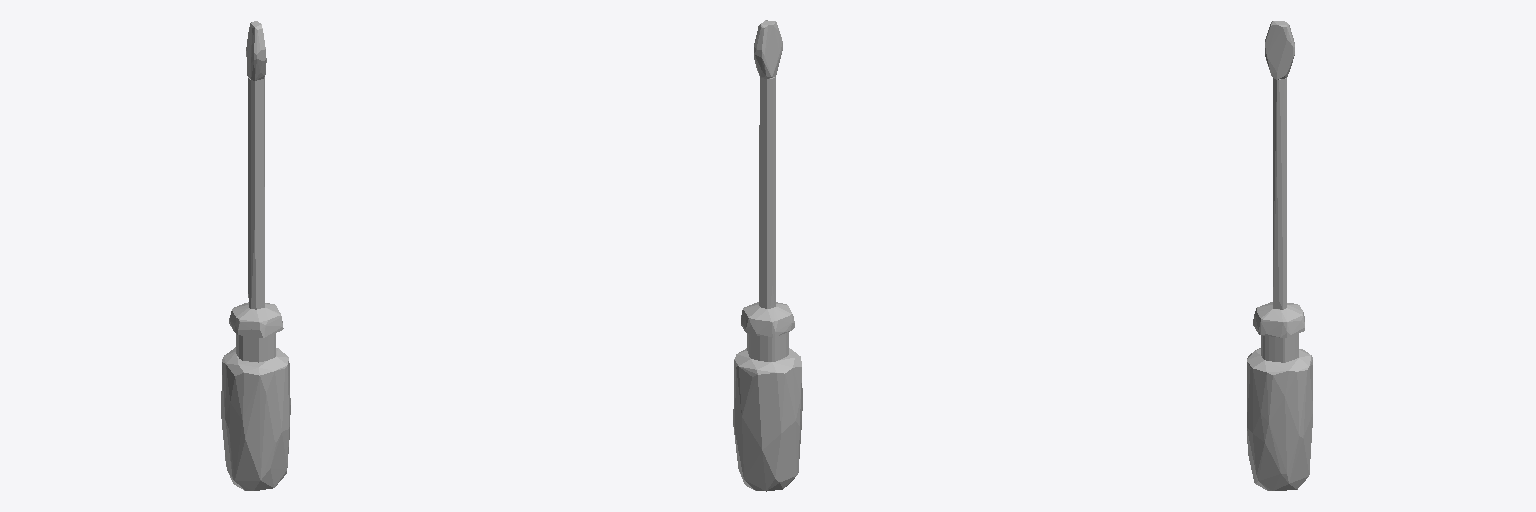
The robot description file, URDF, robot "root":
<robot name="root">
  <link name="link_a1106fcebabd81743dbb1d116dac64cc_convex_piece_0">
    <inertial>
      <origin rpy="0 0 0" xyz="0 0 0"/>
      <mass value="1.18E-04"/>
      <inertia ixx="7.42E-07" ixy="-5.13E-11" ixz="-1.95E-10" iyy="7.42E-07" iyz="-1.03E-10" izz="2.94E-08"/>
    </inertial>
    <visual>
      <origin rpy="0 0 0" xyz="0 0 0"/>
      <geometry>
        <mesh filename="a1106fcebabd81743dbb1d116dac64cc_convex_piece_0.obj" scale="1.0000E+00"/>
      </geometry>
      <material name="">
        <color rgba="7.50E-01 7.50E-01 7.50E-01 1"/>
      </material>
    </visual>
    <collision>
      <origin rpy="0 0 0" xyz="0 0 0"/>
      <geometry>
        <mesh filename="a1106fcebabd81743dbb1d116dac64cc_convex_piece_0.obj" scale="1.0000E+00"/>
      </geometry>
    </collision>
  </link>
  <link name="link_a1106fcebabd81743dbb1d116dac64cc_convex_piece_1">
    <inertial>
      <origin rpy="0 0 0" xyz="0 0 0"/>
      <mass value="1.33E-05"/>
      <inertia ixx="-6.78E-08" ixy="1.14E-12" ixz="6.39E-10" iyy="-6.78E-08" iyz="2.34E-10" izz="2.08E-10"/>
    </inertial>
    <visual>
      <origin rpy="0 0 0" xyz="0 0 0"/>
      <geometry>
        <mesh filename="a1106fcebabd81743dbb1d116dac64cc_convex_piece_1.obj" scale="1.0000E+00"/>
      </geometry>
      <material name="">
        <color rgba="7.50E-01 7.50E-01 7.50E-01 1"/>
      </material>
    </visual>
    <collision>
      <origin rpy="0 0 0" xyz="0 0 0"/>
      <geometry>
        <mesh filename="a1106fcebabd81743dbb1d116dac64cc_convex_piece_1.obj" scale="1.0000E+00"/>
      </geometry>
    </collision>
  </link>
  <joint name="link_a1106fcebabd81743dbb1d116dac64cc_convex_piece_1_joint" type="fixed">
    <origin rpy="0 0 0" xyz="0 0 0"/>
    <parent link="link_a1106fcebabd81743dbb1d116dac64cc_convex_piece_0"/>
    <child link="link_a1106fcebabd81743dbb1d116dac64cc_convex_piece_1"/>
  </joint>
  <link name="link_a1106fcebabd81743dbb1d116dac64cc_convex_piece_2">
    <inertial>
      <origin rpy="0 0 0" xyz="0 0 0"/>
      <mass value="4.98E-06"/>
      <inertia ixx="6.88E-08" ixy="2.15E-11" ixz="3.34E-10" iyy="6.87E-08" iyz="1.08E-10" izz="1.61E-10"/>
    </inertial>
    <visual>
      <origin rpy="0 0 0" xyz="0 0 0"/>
      <geometry>
        <mesh filename="a1106fcebabd81743dbb1d116dac64cc_convex_piece_2.obj" scale="1.0000E+00"/>
      </geometry>
      <material name="">
        <color rgba="7.50E-01 7.50E-01 7.50E-01 1"/>
      </material>
    </visual>
    <collision>
      <origin rpy="0 0 0" xyz="0 0 0"/>
      <geometry>
        <mesh filename="a1106fcebabd81743dbb1d116dac64cc_convex_piece_2.obj" scale="1.0000E+00"/>
      </geometry>
    </collision>
  </link>
  <joint name="link_a1106fcebabd81743dbb1d116dac64cc_convex_piece_2_joint" type="fixed">
    <origin rpy="0 0 0" xyz="0 0 0"/>
    <parent link="link_a1106fcebabd81743dbb1d116dac64cc_convex_piece_1"/>
    <child link="link_a1106fcebabd81743dbb1d116dac64cc_convex_piece_2"/>
  </joint>
  <link name="link_a1106fcebabd81743dbb1d116dac64cc_convex_piece_3">
    <inertial>
      <origin rpy="0 0 0" xyz="0 0 0"/>
      <mass value="9.06E-06"/>
      <inertia ixx="-4.73E-08" ixy="1.18E-12" ixz="5.23E-11" iyy="-4.73E-08" iyz="-7.08E-11" izz="8.44E-10"/>
    </inertial>
    <visual>
      <origin rpy="0 0 0" xyz="0 0 0"/>
      <geometry>
        <mesh filename="a1106fcebabd81743dbb1d116dac64cc_convex_piece_3.obj" scale="1.0000E+00"/>
      </geometry>
      <material name="">
        <color rgba="7.50E-01 7.50E-01 7.50E-01 1"/>
      </material>
    </visual>
    <collision>
      <origin rpy="0 0 0" xyz="0 0 0"/>
      <geometry>
        <mesh filename="a1106fcebabd81743dbb1d116dac64cc_convex_piece_3.obj" scale="1.0000E+00"/>
      </geometry>
    </collision>
  </link>
  <joint name="link_a1106fcebabd81743dbb1d116dac64cc_convex_piece_3_joint" type="fixed">
    <origin rpy="0 0 0" xyz="0 0 0"/>
    <parent link="link_a1106fcebabd81743dbb1d116dac64cc_convex_piece_2"/>
    <child link="link_a1106fcebabd81743dbb1d116dac64cc_convex_piece_3"/>
  </joint>
  <link name="link_a1106fcebabd81743dbb1d116dac64cc_convex_piece_4">
    <inertial>
      <origin rpy="0 0 0" xyz="0 0 0"/>
      <mass value="1.06E-05"/>
      <inertia ixx="-7.65E-08" ixy="2.19E-12" ixz="1.09E-10" iyy="-7.65E-08" iyz="3.67E-11" izz="1.50E-09"/>
    </inertial>
    <visual>
      <origin rpy="0 0 0" xyz="0 0 0"/>
      <geometry>
        <mesh filename="a1106fcebabd81743dbb1d116dac64cc_convex_piece_4.obj" scale="1.0000E+00"/>
      </geometry>
      <material name="">
        <color rgba="7.50E-01 7.50E-01 7.50E-01 1"/>
      </material>
    </visual>
    <collision>
      <origin rpy="0 0 0" xyz="0 0 0"/>
      <geometry>
        <mesh filename="a1106fcebabd81743dbb1d116dac64cc_convex_piece_4.obj" scale="1.0000E+00"/>
      </geometry>
    </collision>
  </link>
  <joint name="link_a1106fcebabd81743dbb1d116dac64cc_convex_piece_4_joint" type="fixed">
    <origin rpy="0 0 0" xyz="0 0 0"/>
    <parent link="link_a1106fcebabd81743dbb1d116dac64cc_convex_piece_3"/>
    <child link="link_a1106fcebabd81743dbb1d116dac64cc_convex_piece_4"/>
  </joint>
</robot>

--- What the picture shows (computed from the rendered views, not written in the file) ---
3 views of the same robot in one strip: view 1: azimuth 30°, elevation 25°; view 2: azimuth 150°, elevation 25°; view 3: azimuth 270°, elevation 25° (orthographic).
Model root with 5 links and 4 joints (4 fixed), rooted at link_a1106fcebabd81743dbb1d116dac64cc_convex_piece_0, posed all joints at 0.
Visible links, largest first — view 1: link_a1106fcebabd81743dbb1d116dac64cc_convex_piece_0, link_a1106fcebabd81743dbb1d116dac64cc_convex_piece_1, link_a1106fcebabd81743dbb1d116dac64cc_convex_piece_4, link_a1106fcebabd81743dbb1d116dac64cc_convex_piece_2, link_a1106fcebabd81743dbb1d116dac64cc_convex_piece_3; view 2: link_a1106fcebabd81743dbb1d116dac64cc_convex_piece_0, link_a1106fcebabd81743dbb1d116dac64cc_convex_piece_1, link_a1106fcebabd81743dbb1d116dac64cc_convex_piece_4, link_a1106fcebabd81743dbb1d116dac64cc_convex_piece_2, link_a1106fcebabd81743dbb1d116dac64cc_convex_piece_3; view 3: link_a1106fcebabd81743dbb1d116dac64cc_convex_piece_0, link_a1106fcebabd81743dbb1d116dac64cc_convex_piece_1, link_a1106fcebabd81743dbb1d116dac64cc_convex_piece_4, link_a1106fcebabd81743dbb1d116dac64cc_convex_piece_2, link_a1106fcebabd81743dbb1d116dac64cc_convex_piece_3.
Link boxes in pixels (left/top/right/bottom): link_a1106fcebabd81743dbb1d116dac64cc_convex_piece_0: left=221, top=347, right=290, bottom=490; link_a1106fcebabd81743dbb1d116dac64cc_convex_piece_1: left=248, top=77, right=264, bottom=309; link_a1106fcebabd81743dbb1d116dac64cc_convex_piece_4: left=229, top=302, right=283, bottom=337; link_a1106fcebabd81743dbb1d116dac64cc_convex_piece_2: left=246, top=21, right=266, bottom=80; link_a1106fcebabd81743dbb1d116dac64cc_convex_piece_3: left=236, top=333, right=275, bottom=362; link_a1106fcebabd81743dbb1d116dac64cc_convex_piece_0: left=733, top=348, right=802, bottom=491; link_a1106fcebabd81743dbb1d116dac64cc_convex_piece_1: left=759, top=77, right=775, bottom=308; link_a1106fcebabd81743dbb1d116dac64cc_convex_piece_4: left=741, top=302, right=794, bottom=337; link_a1106fcebabd81743dbb1d116dac64cc_convex_piece_2: left=754, top=20, right=782, bottom=78; link_a1106fcebabd81743dbb1d116dac64cc_convex_piece_3: left=747, top=332, right=788, bottom=361; link_a1106fcebabd81743dbb1d116dac64cc_convex_piece_0: left=1247, top=348, right=1312, bottom=490; link_a1106fcebabd81743dbb1d116dac64cc_convex_piece_1: left=1273, top=78, right=1286, bottom=309; link_a1106fcebabd81743dbb1d116dac64cc_convex_piece_4: left=1253, top=302, right=1304, bottom=337; link_a1106fcebabd81743dbb1d116dac64cc_convex_piece_2: left=1265, top=21, right=1294, bottom=79; link_a1106fcebabd81743dbb1d116dac64cc_convex_piece_3: left=1261, top=334, right=1298, bottom=362.
Bounding box of the posed robot: 0.046 × 0.046 × 0.3488 m (x, y, z).
5 mesh visuals loaded from 5 distinct referenced files (5 OBJ).
